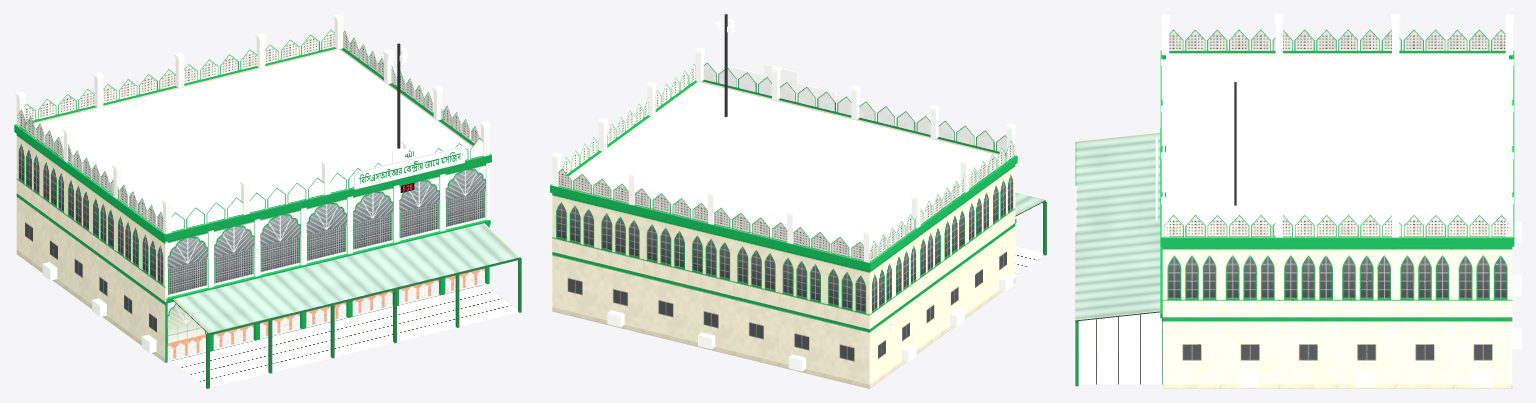
The model's file is central-mosque.glb.
3 renders of one model, left to right at view 1: azimuth 30°, elevation 25°; view 2: azimuth 150°, elevation 25°; view 3: azimuth 270°, elevation 25°, orthographic. The views are drawn at different scales.
Visible parts, largest first — view 1: Central Mosque; view 2: Central Mosque; view 3: Central Mosque.
Boxes of the visible parts, x1,y1,x2,y2 form: Central Mosque: [14, 14, 521, 388]; Central Mosque: [550, 14, 1046, 388]; Central Mosque: [1075, 14, 1521, 388].
Size of the model in its own units: 22.05 by 14.45 by 21.46.
Materials: 1 (1 with a texture image).
